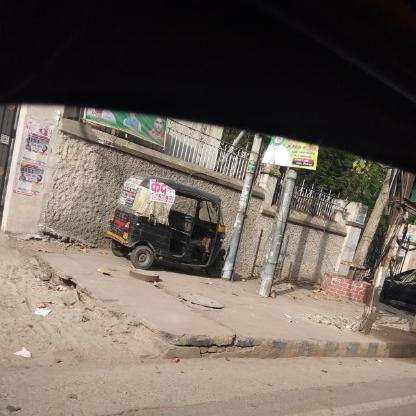auto-rikshaw: (117, 159, 227, 281)
